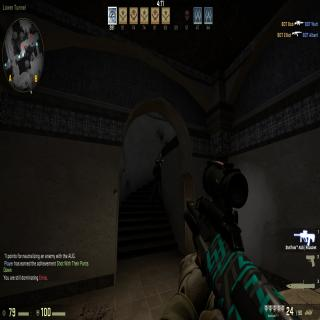T-Body: (152, 158, 160, 207)
T-Head: (155, 157, 159, 168)
